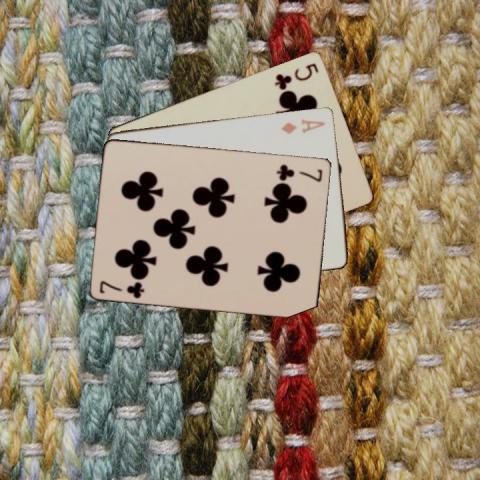5c: (272, 60, 320, 90)
7c: (97, 278, 146, 300), (273, 161, 324, 182)
Ad: (278, 116, 327, 136)
